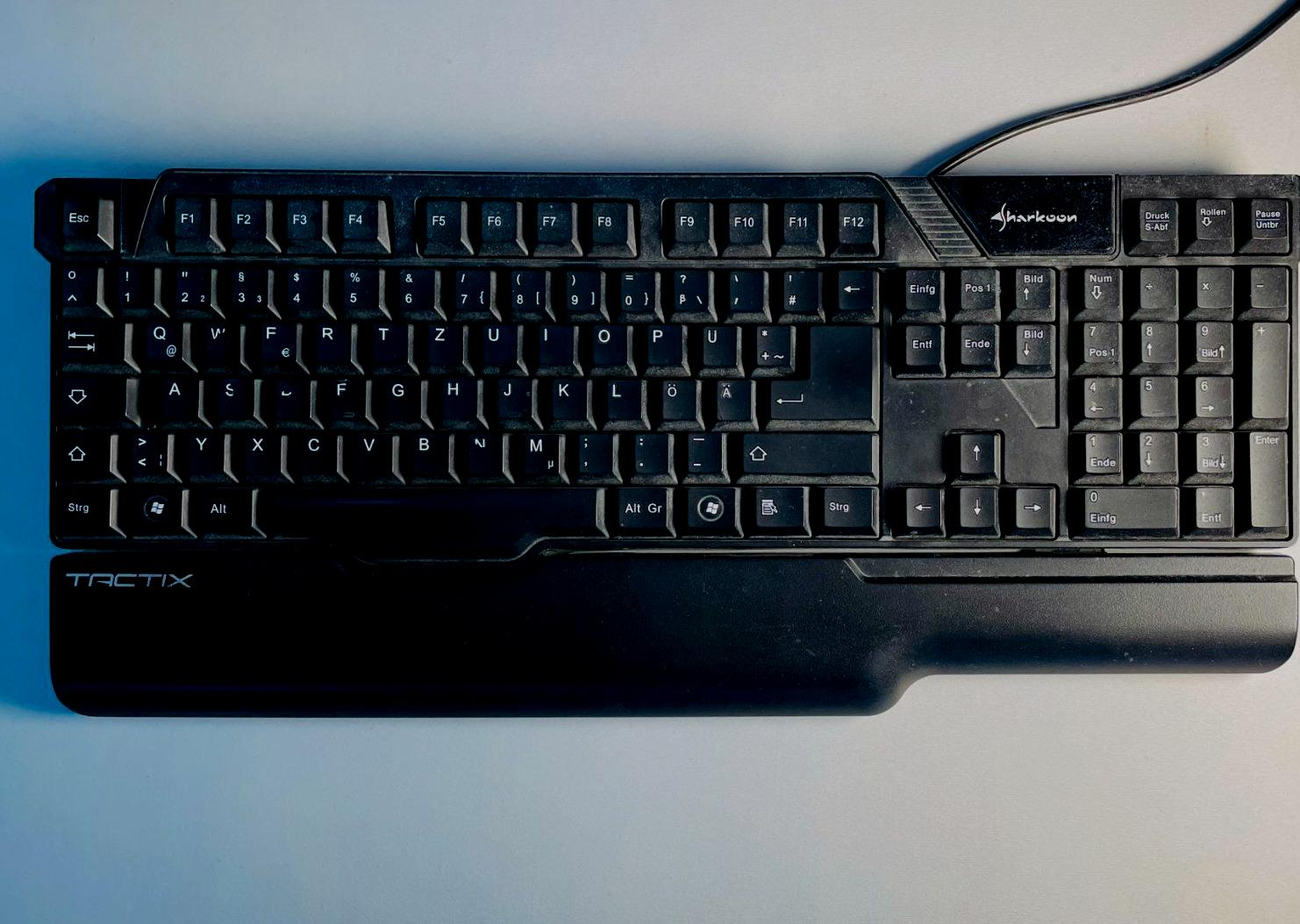0: (612, 263, 654, 315)
1: (111, 259, 152, 309)
2: (168, 260, 211, 312)
3: (225, 261, 267, 310)
4: (280, 260, 321, 309)
5: (335, 260, 379, 311)
6: (392, 262, 434, 311)
7: (447, 263, 489, 313)
8: (503, 262, 546, 316)
9: (557, 262, 601, 314)
a: (156, 371, 196, 418)
accent: (721, 263, 764, 313)
ae: (711, 374, 751, 419)
alt-left: (193, 481, 252, 531)
altgr-right: (610, 481, 669, 529)
b: (405, 427, 447, 473)
c: (294, 428, 335, 473)
caret: (55, 260, 96, 310)
comma: (571, 427, 611, 474)
d: (268, 373, 308, 417)
del: (833, 266, 881, 316)
e: (254, 316, 295, 364)
enter: (765, 316, 877, 421)
f: (325, 373, 361, 417)
g: (379, 373, 418, 418)
h: (435, 373, 475, 418)
hash: (776, 263, 818, 311)
i: (532, 320, 573, 363)
j: (490, 373, 531, 417)
k: (546, 373, 585, 418)
keyboard: (35, 160, 1300, 578)
l: (601, 374, 639, 417)
less: (124, 426, 167, 476)
m: (517, 428, 559, 475)
minus: (681, 427, 720, 472)
n: (462, 427, 501, 473)
o: (585, 319, 625, 363)
oe: (655, 374, 695, 418)
p: (640, 319, 680, 362)
plus: (749, 318, 790, 366)
point: (626, 427, 667, 473)
q: (139, 316, 182, 363)
r: (310, 317, 350, 360)
s: (212, 372, 251, 416)
shift-left: (54, 425, 108, 477)
shift-lock: (54, 370, 125, 420)
shift-right: (735, 426, 872, 472)
space: (263, 480, 602, 552)
ss: (666, 263, 708, 312)
strg-left: (51, 480, 110, 536)
strg-right: (816, 480, 872, 527)
t: (366, 318, 405, 362)
tab: (56, 316, 123, 363)
u: (475, 319, 517, 364)
ue: (696, 320, 736, 366)
v: (351, 428, 392, 475)
w: (197, 317, 238, 364)
x: (239, 427, 280, 473)
y: (182, 427, 223, 473)
z: (423, 319, 461, 364)
